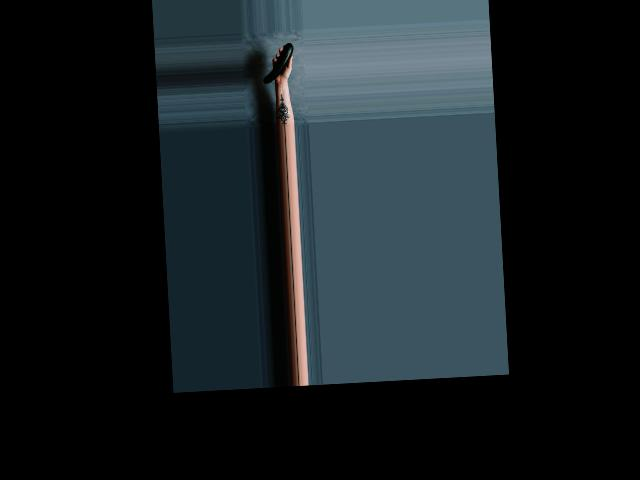cucumber: (261, 42, 294, 83)
